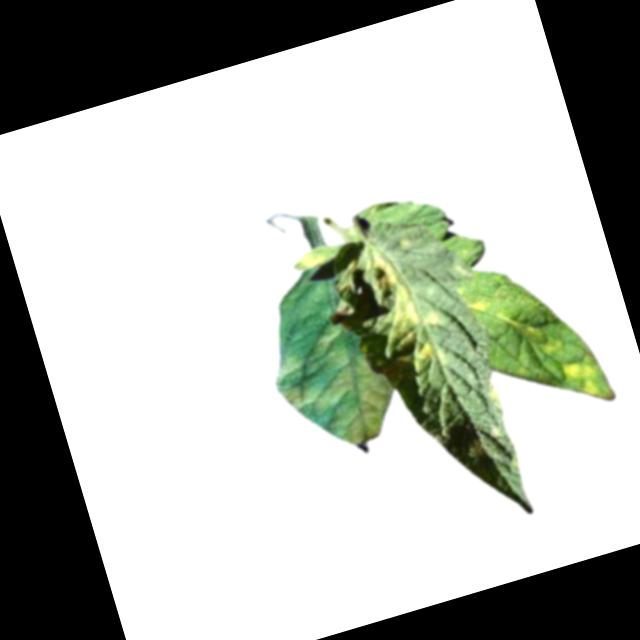Leaf_Mold: (268, 321, 407, 464), (353, 236, 456, 387), (560, 355, 604, 402)
